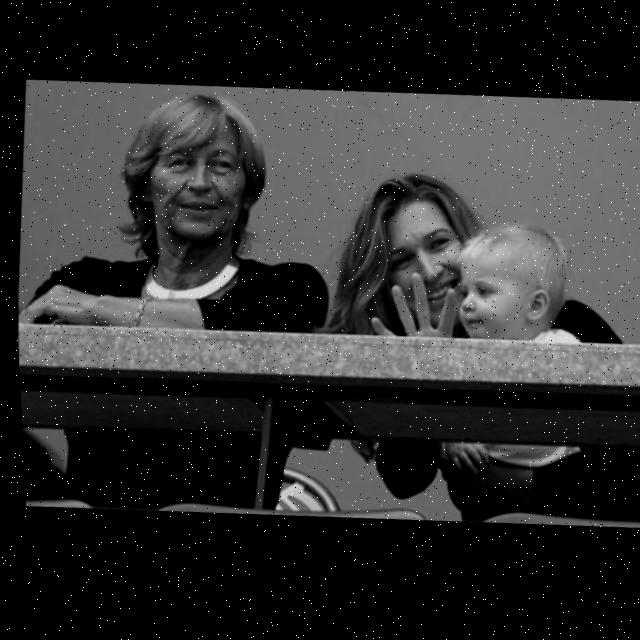face: (136, 96, 265, 257), (359, 176, 466, 333), (460, 210, 571, 347)
